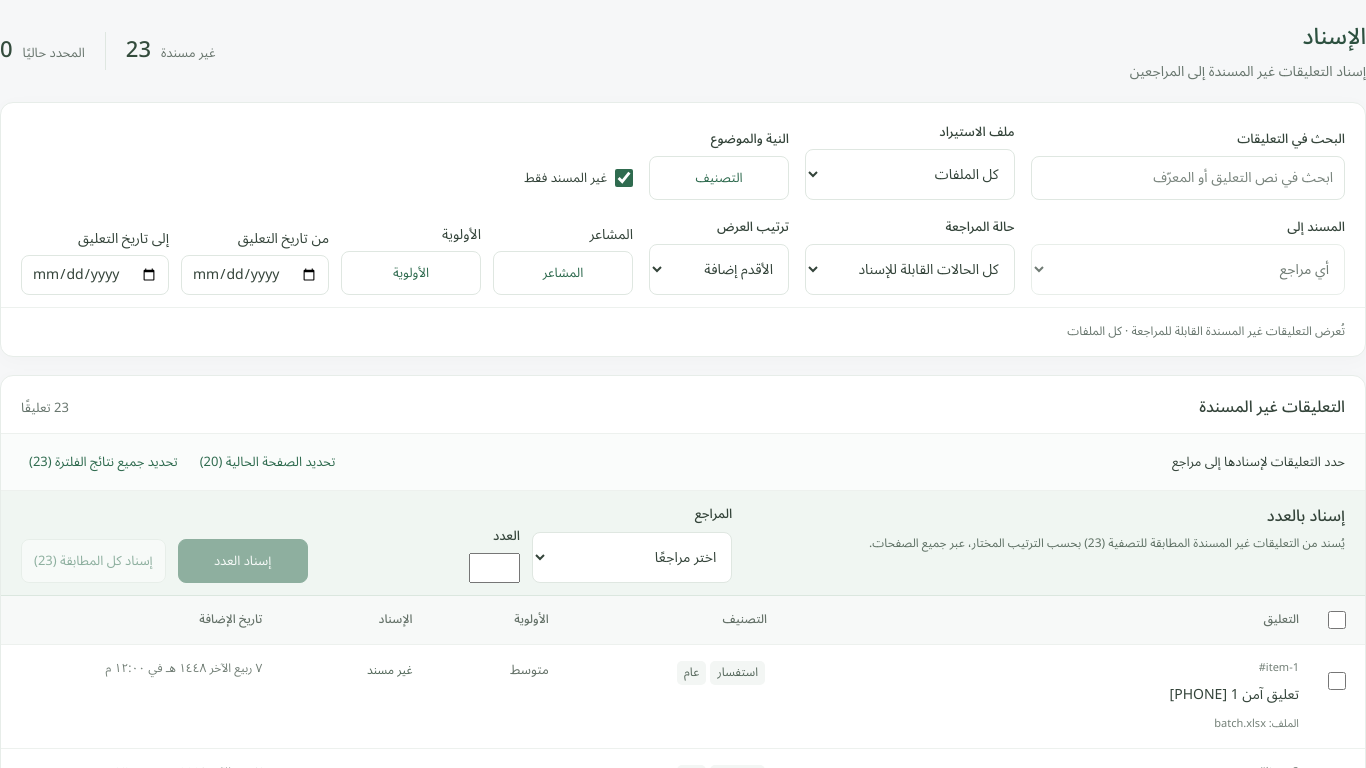
Test: Admin Assignment workspace › preserves selection and sanitizes errors when assignment fails, then supports retry
This screenshot has width=1366, height=768.
Click the checkbox named "تحديد item-1".
click(1337, 681)  # box [1328, 672, 1346, 690]
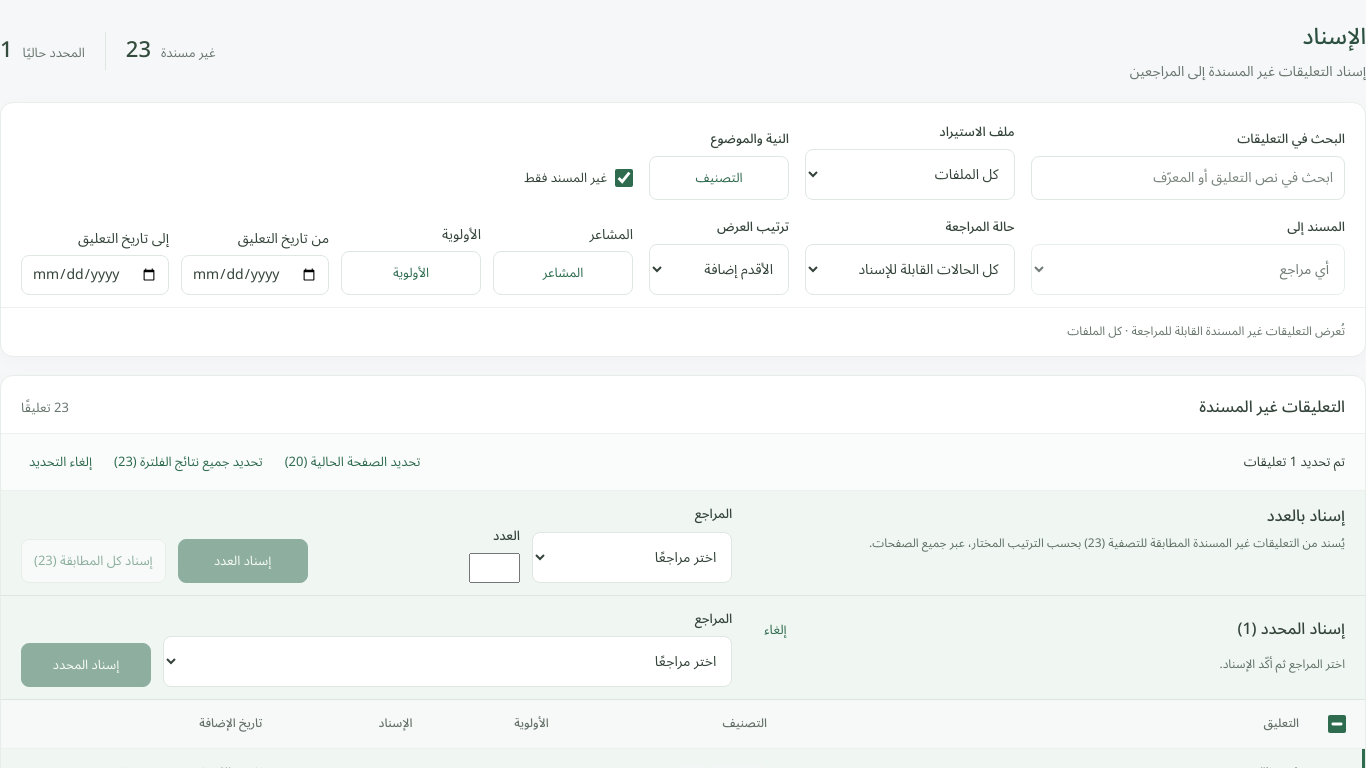
Select "مراجع اختبار — 5 قيد الإنجاز" in the dropdown named "اختر المراجع" at (448, 661), box [163, 636, 732, 687]
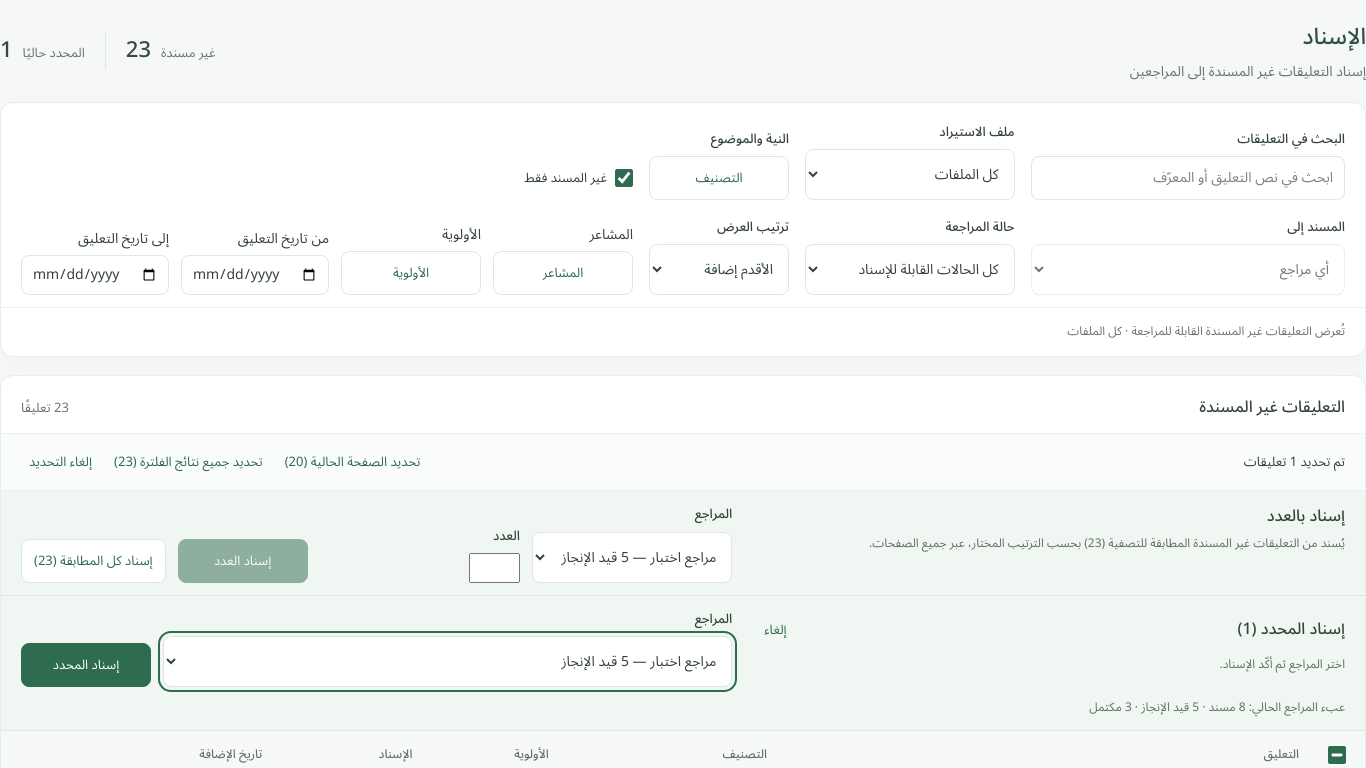
Click the button "إسناد المحدد".
click(86, 665)  # box [21, 643, 151, 687]
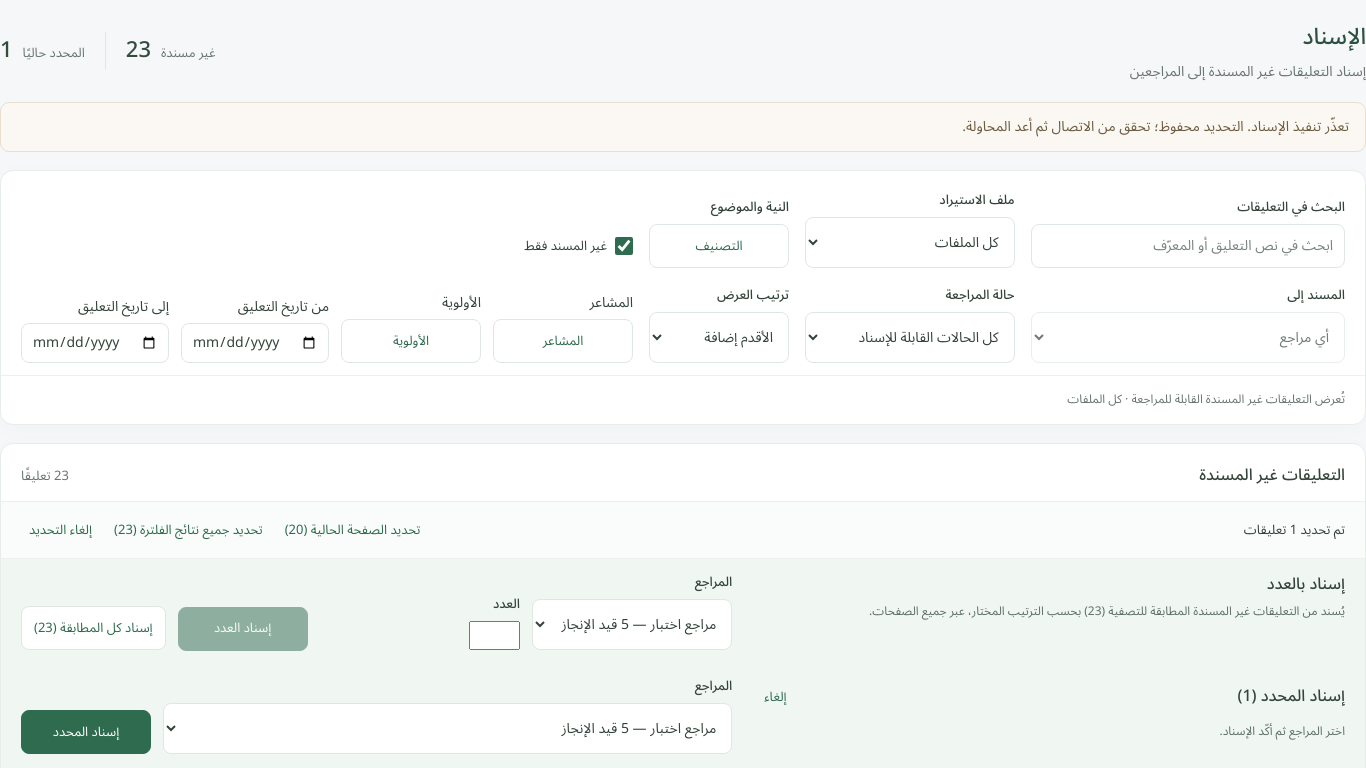
Expected: the text "عنصر بنجاح" is not shown
Expected: the message "تعذّر تنفيذ الإسناد. التحديد محفوظ؛ تحقق من الاتصال ثم أعد المحاولة." is shown, [0, 102, 1365, 152]
Click the button "إسناد المحدد".
click(86, 732)  # box [21, 710, 151, 754]
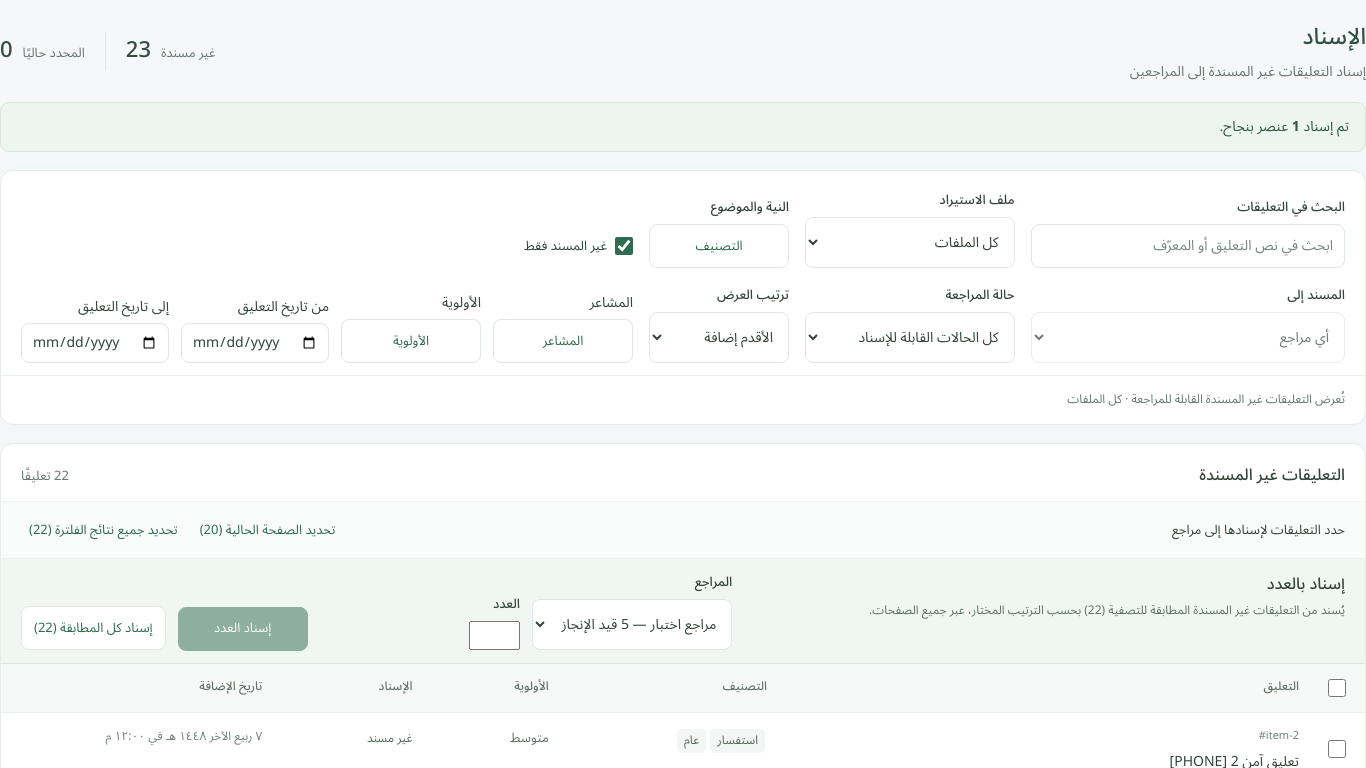
Expected: the text "تم إسناد 1 عنصر بنجاح." is shown, [1220, 112, 1349, 141]
